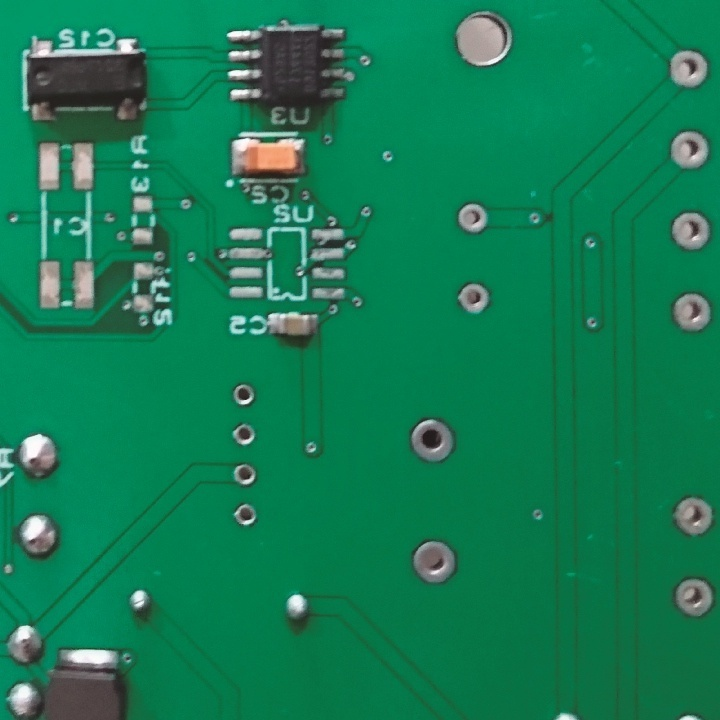F: (407, 418, 461, 466), (410, 538, 459, 589), (667, 45, 713, 92), (667, 128, 714, 173), (668, 575, 715, 618), (670, 495, 714, 538), (670, 208, 713, 251), (672, 290, 713, 332), (456, 282, 494, 315), (456, 200, 490, 235), (231, 460, 259, 488), (229, 422, 258, 447), (230, 503, 260, 527), (232, 382, 256, 409)
